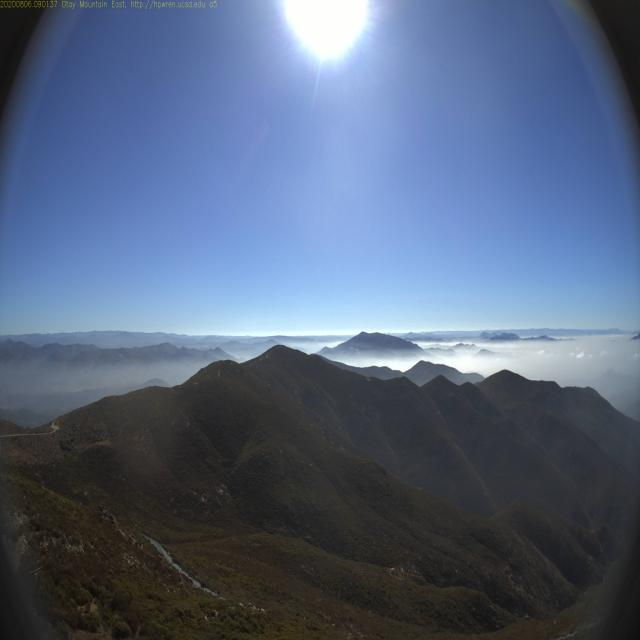smoke: (349, 343, 362, 358)
